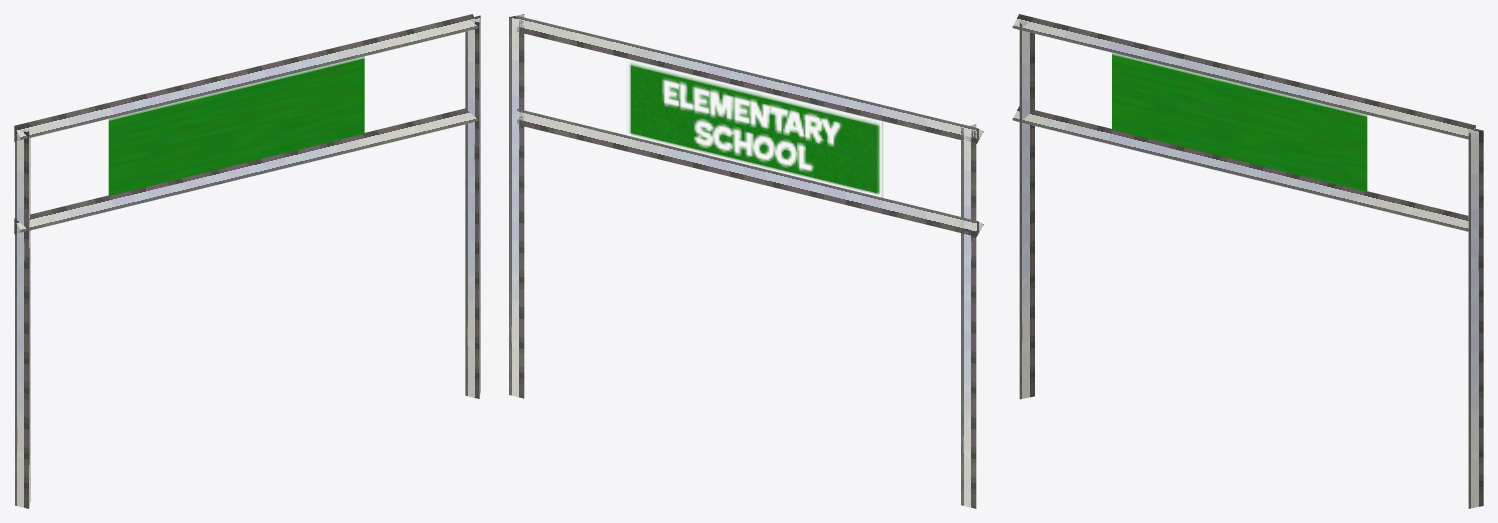
Rendered from SIGN02.glb.
3 renders of one model, left to right at view 1: azimuth 30°, elevation 25°; view 2: azimuth 150°, elevation 25°; view 3: azimuth 330°, elevation 25°, orthographic.
Parts seen in each view (by area): view 1: SIGN02; view 2: SIGN02; view 3: SIGN02.
Part boxes in pixels (bbox=[...]): SIGN02: bbox=[14, 14, 480, 508]; SIGN02: bbox=[509, 14, 983, 508]; SIGN02: bbox=[1012, 14, 1483, 508].
Bounding box in the file's own units: 1426 × 1110 × 37.47.
2 materials, 2 textured.
